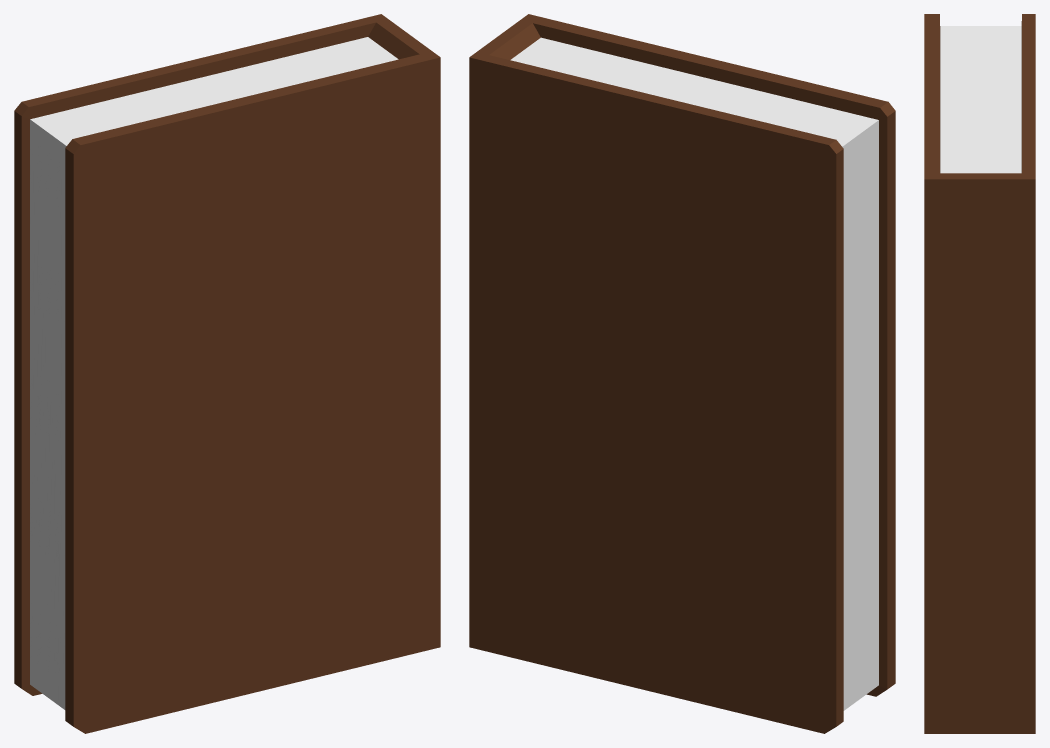
Rendered from book02.obj.
3 renders of one model, left to right at view 1: azimuth 30°, elevation 25°; view 2: azimuth 150°, elevation 25°; view 3: azimuth 270°, elevation 25°, orthographic. The views are drawn at different scales.
Visible parts, largest first — view 1: Cube.001_Cube.004; view 2: Cube.001_Cube.004; view 3: Cube.001_Cube.004.
Boxes of the visible parts, x1=… form: Cube.001_Cube.004: x1=14, y1=14, x2=440, y2=733; Cube.001_Cube.004: x1=469, y1=14, x2=895, y2=733; Cube.001_Cube.004: x1=924, y1=14, x2=1035, y2=733.
Bounding box in the file's own units: 0.1678 × 0.2575 × 0.0469.
